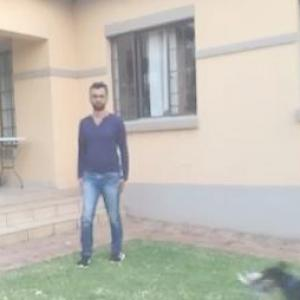follow: (88, 92, 143, 254)
